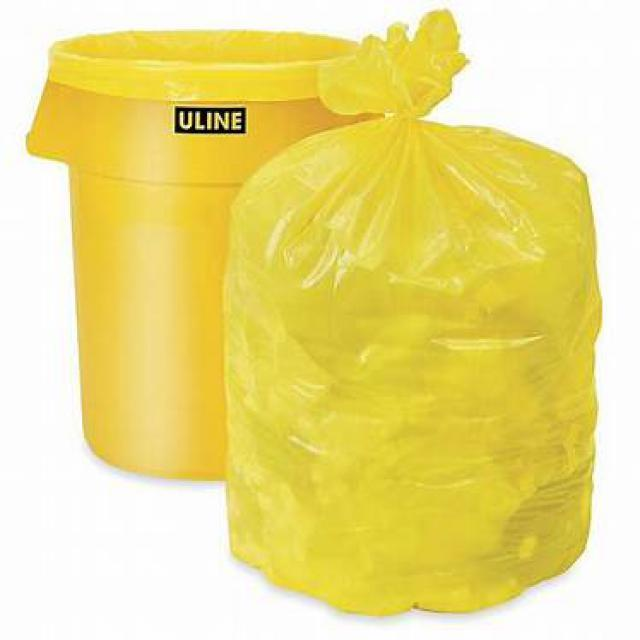waste: (230, 51, 592, 604)
